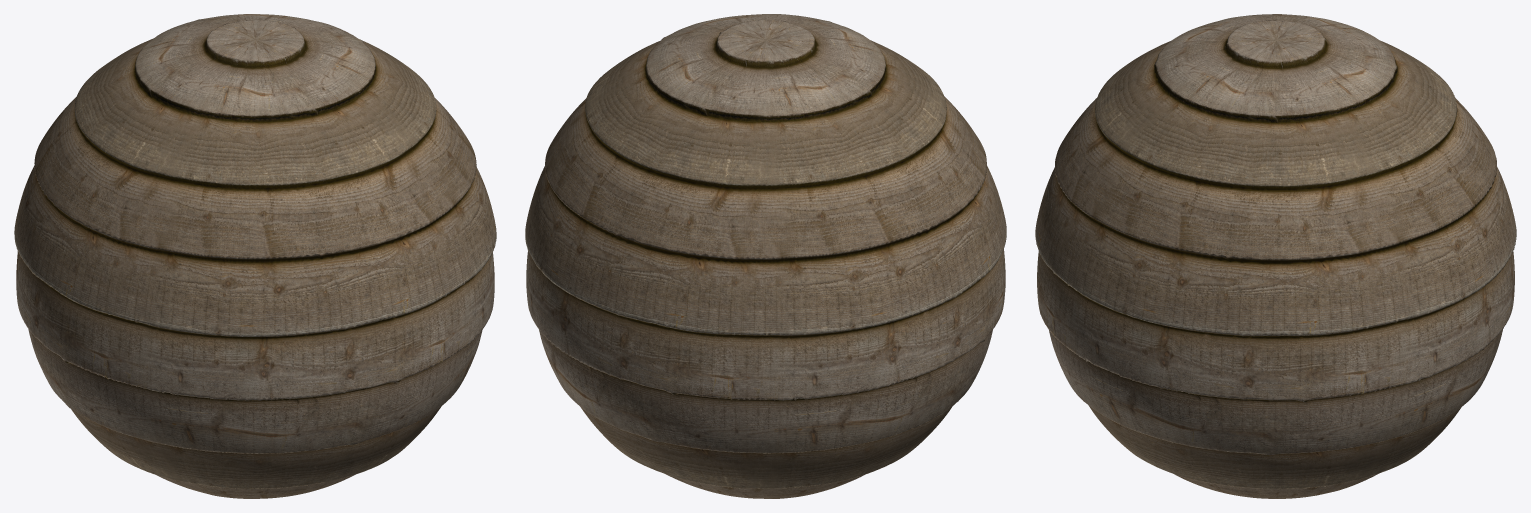
The model's file is planks_brown_10_1k.glb.
The picture shows the model from 3 angles, left to right: view 1: azimuth 30°, elevation 25°; view 2: azimuth 150°, elevation 25°; view 3: azimuth 270°, elevation 25°; orthographic projection.
Parts seen in each view (by area): view 1: sphere_gltf; view 2: sphere_gltf; view 3: sphere_gltf.
Part boxes in pixels (x1,y1,x2,y2): sphere_gltf: (14, 14, 496, 498); sphere_gltf: (525, 14, 1006, 498); sphere_gltf: (1035, 14, 1516, 498).
Size of the model in its own units: 1.01 by 1.01 by 1.01.
Materials: 1 (1 with a texture image).
